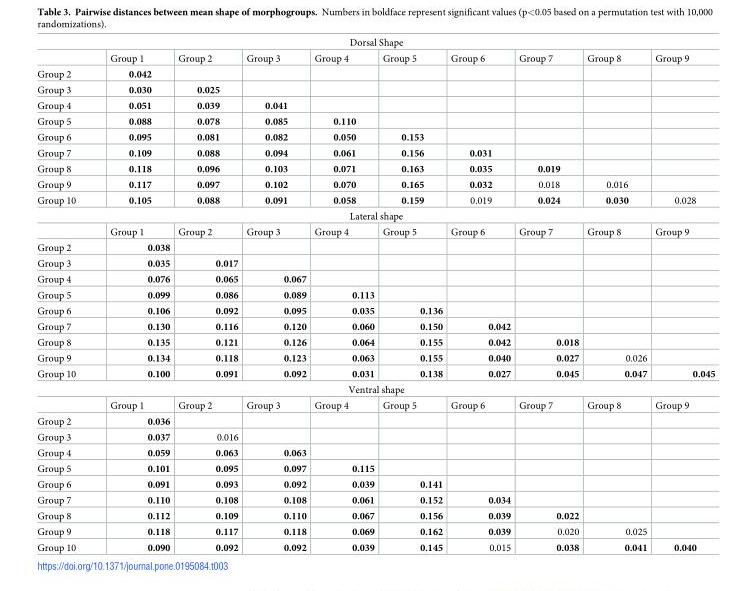table: (36, 37, 714, 552)
table column: (92, 37, 173, 552), (377, 37, 446, 552), (173, 37, 241, 552), (241, 37, 309, 552), (309, 37, 377, 552), (446, 37, 514, 552), (514, 37, 582, 552), (582, 37, 650, 552), (650, 37, 714, 552), (36, 37, 92, 552)
table projected row header: (36, 381, 714, 397), (36, 208, 714, 223), (36, 37, 714, 50)
table row: (36, 50, 714, 66), (36, 81, 714, 97), (36, 97, 714, 113), (36, 113, 714, 129), (36, 144, 714, 160), (36, 160, 714, 176), (36, 176, 714, 192), (36, 192, 714, 208), (36, 223, 714, 239), (36, 239, 714, 255), (36, 255, 714, 271), (36, 286, 714, 302), (36, 302, 714, 318), (36, 318, 714, 334), (36, 334, 714, 350), (36, 365, 714, 381), (36, 381, 714, 397), (36, 397, 714, 413), (36, 413, 714, 429), (36, 444, 714, 460), (36, 460, 714, 476), (36, 476, 714, 492), (36, 507, 714, 523), (36, 523, 714, 539), (36, 66, 714, 81), (36, 129, 714, 144), (36, 208, 714, 223), (36, 271, 714, 286), (36, 350, 714, 365), (36, 429, 714, 444), (36, 492, 714, 507), (36, 37, 714, 50), (36, 539, 714, 552)
